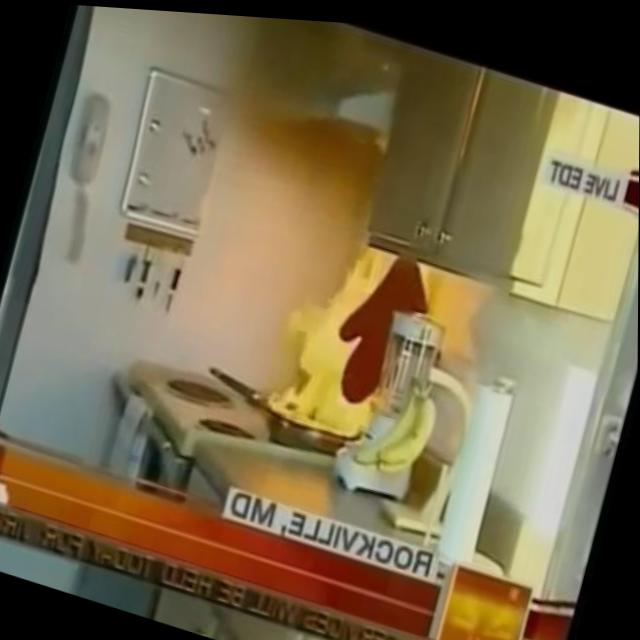fire: (260, 218, 406, 440)
